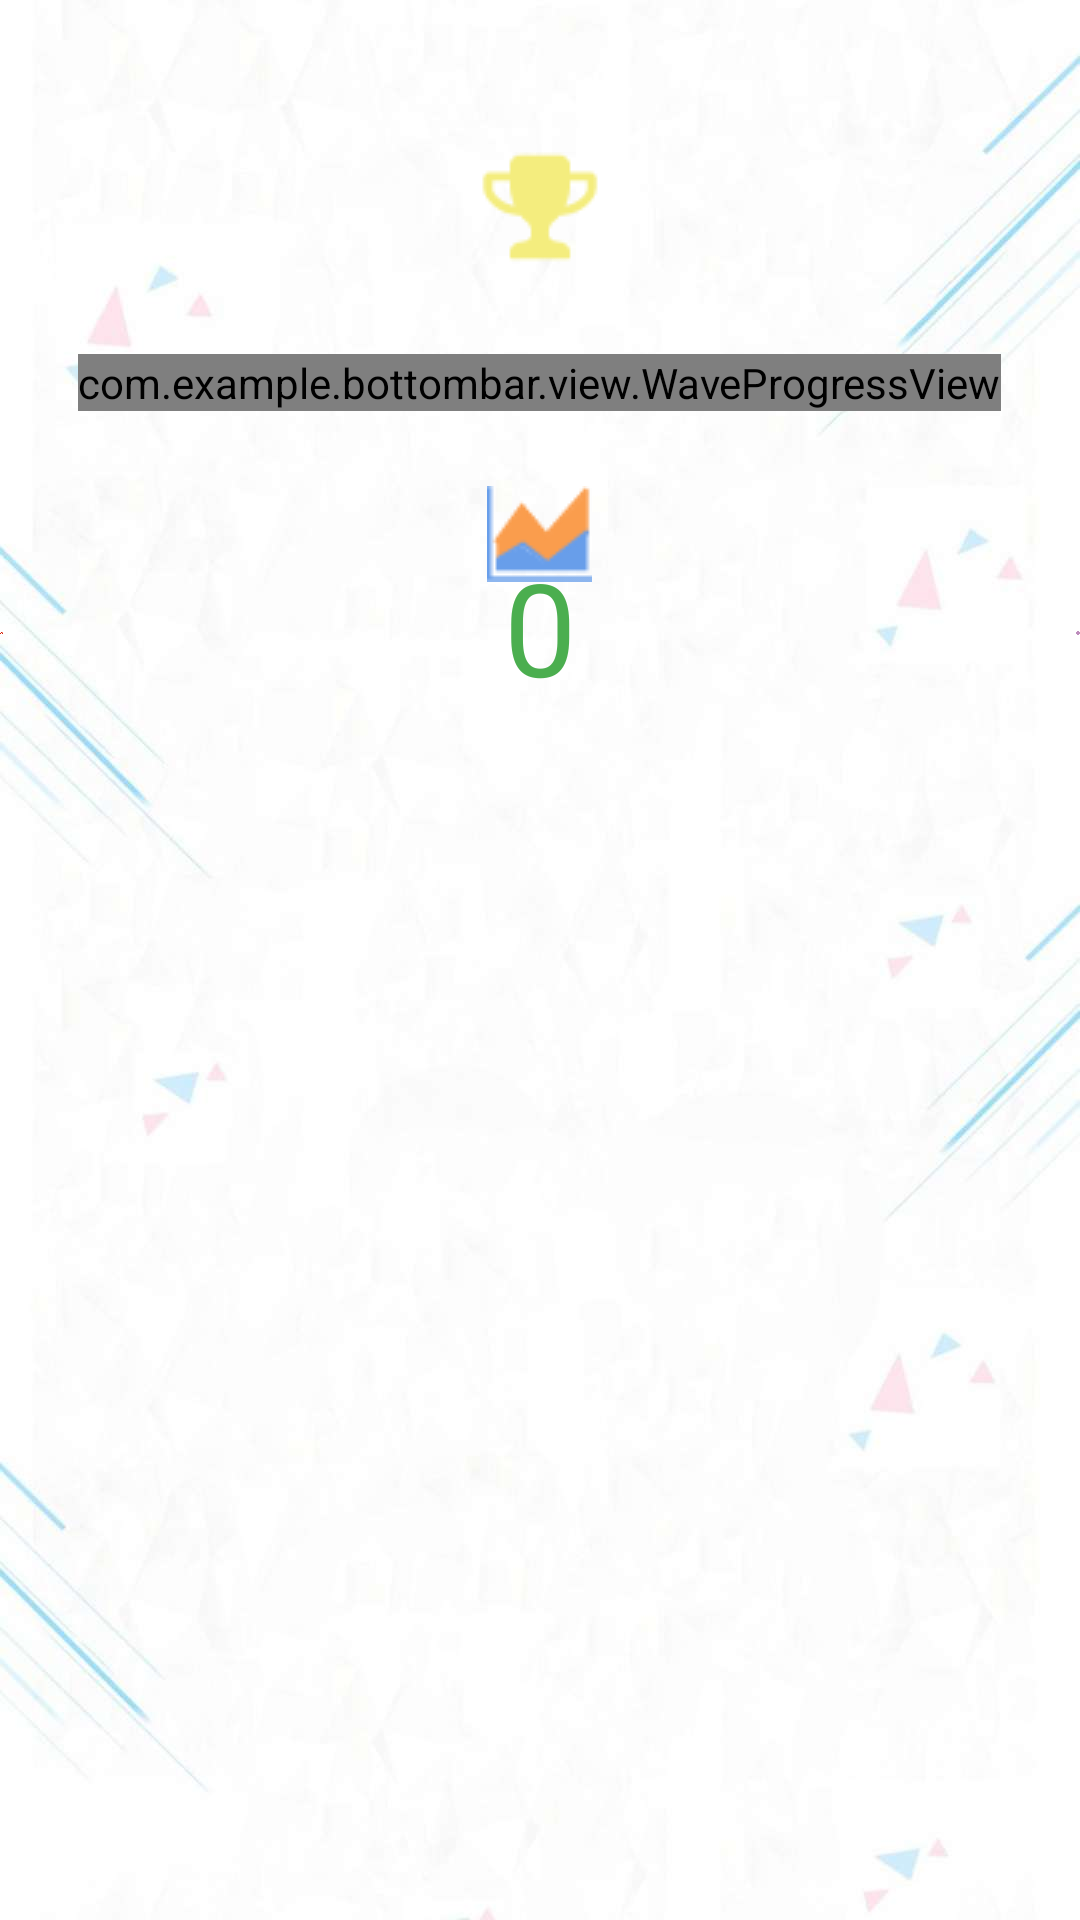

Locate icon controls on the screen. Image size 1080*1920, boxes as bbox=(x1, y1, x2, y2).
chart: bbox=(487, 486, 592, 582)
cup: bbox=(482, 153, 598, 261)
